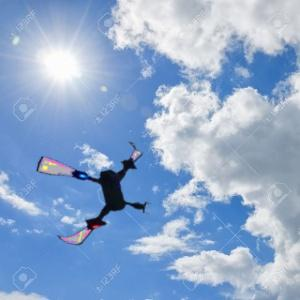drone: (32, 133, 157, 258)
